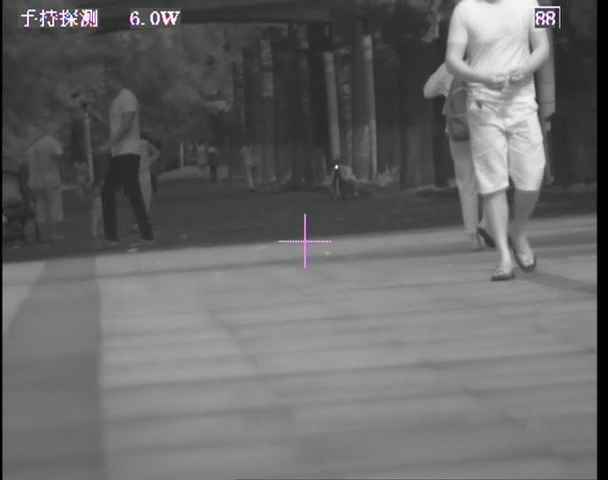my: (333, 163, 340, 171)
